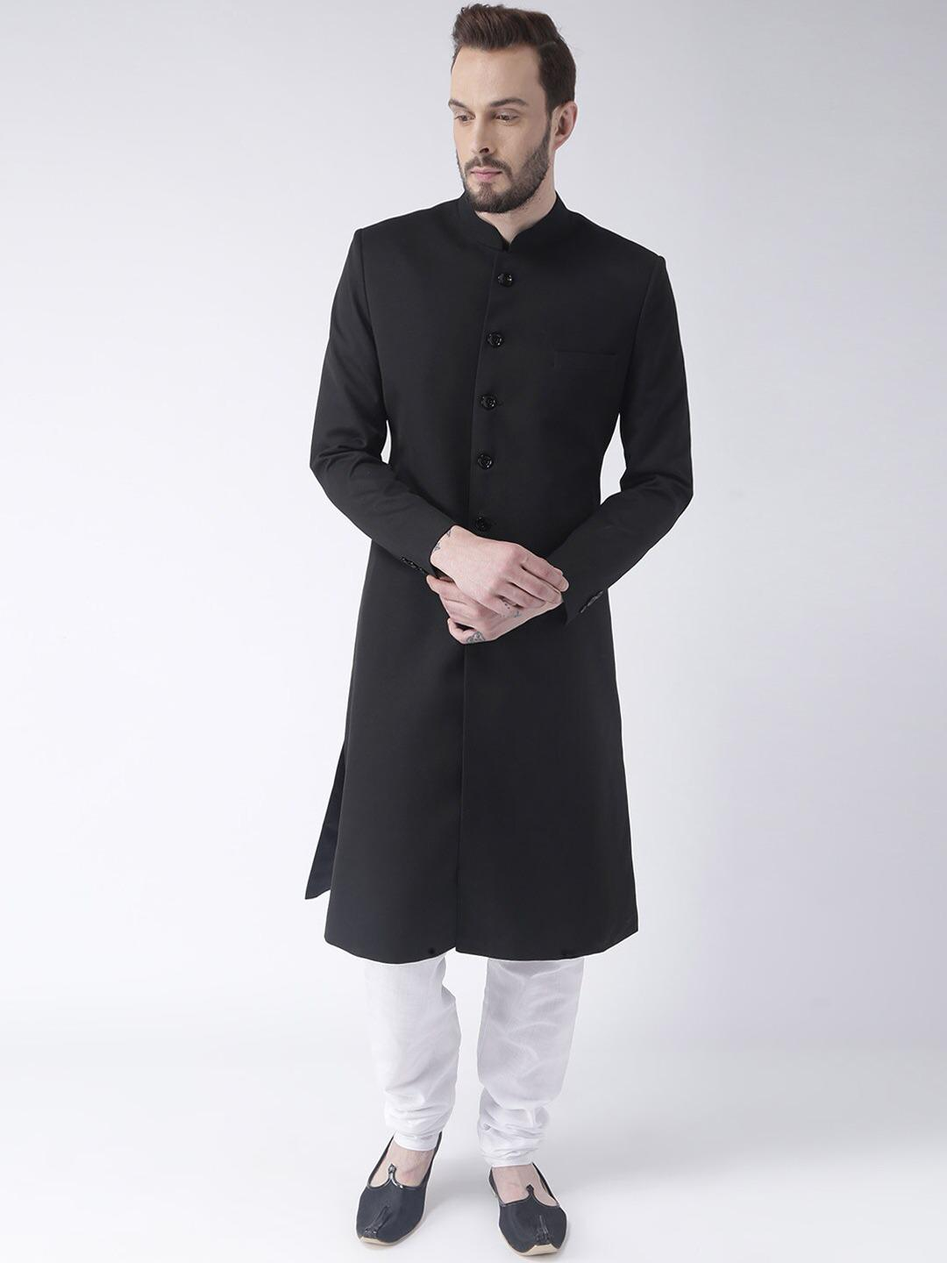Plain Sherwani: (301, 188, 696, 970)
